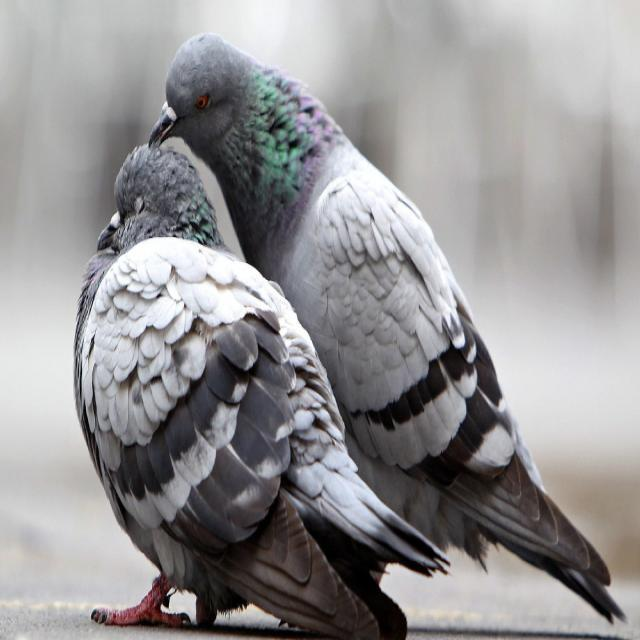bird: (170, 24, 598, 599), (37, 139, 417, 640)
